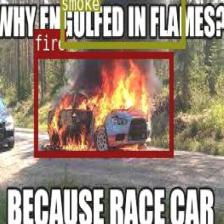fire: (33, 51, 172, 155)
smoke: (60, 0, 184, 46)
